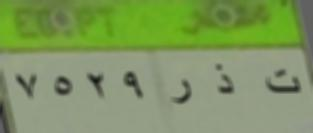2: (86, 68, 108, 105)
5: (51, 71, 75, 101)
7: (13, 67, 41, 104)
9: (120, 70, 146, 106)
raa: (166, 74, 194, 109)
taa: (260, 67, 304, 100)
zaal: (211, 60, 240, 97)
